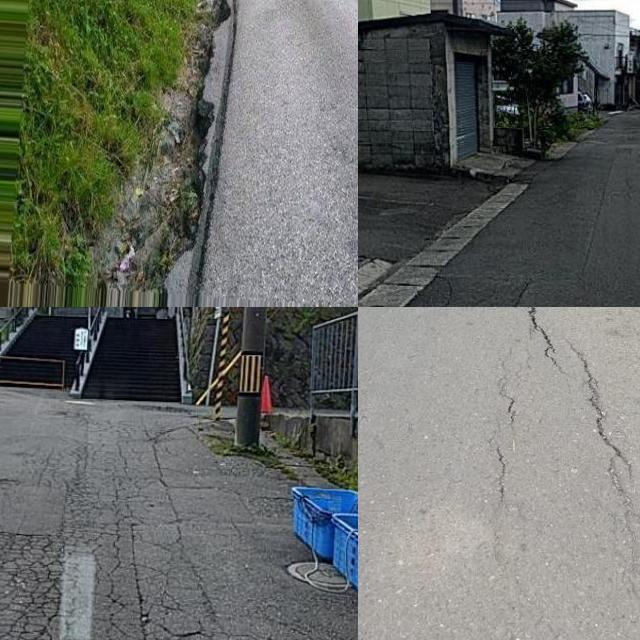Memanjang: (567, 340, 640, 479), (506, 307, 573, 371)
Pinggir: (96, 0, 257, 307)
